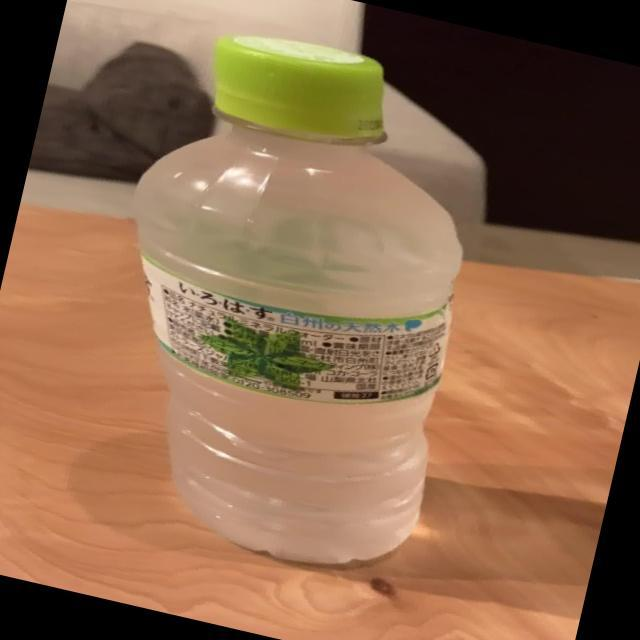good: (56, 6, 522, 586)
